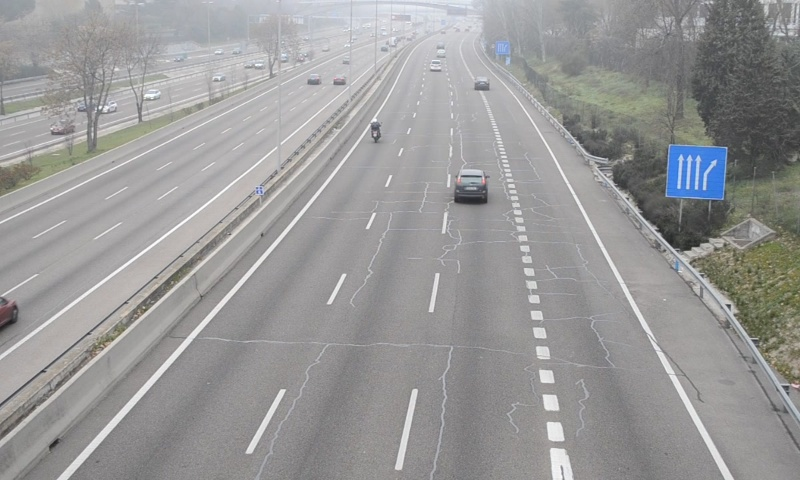car: (454, 168, 488, 203), (474, 77, 488, 91), (430, 60, 442, 72)
motorcycle: (368, 119, 382, 145)
